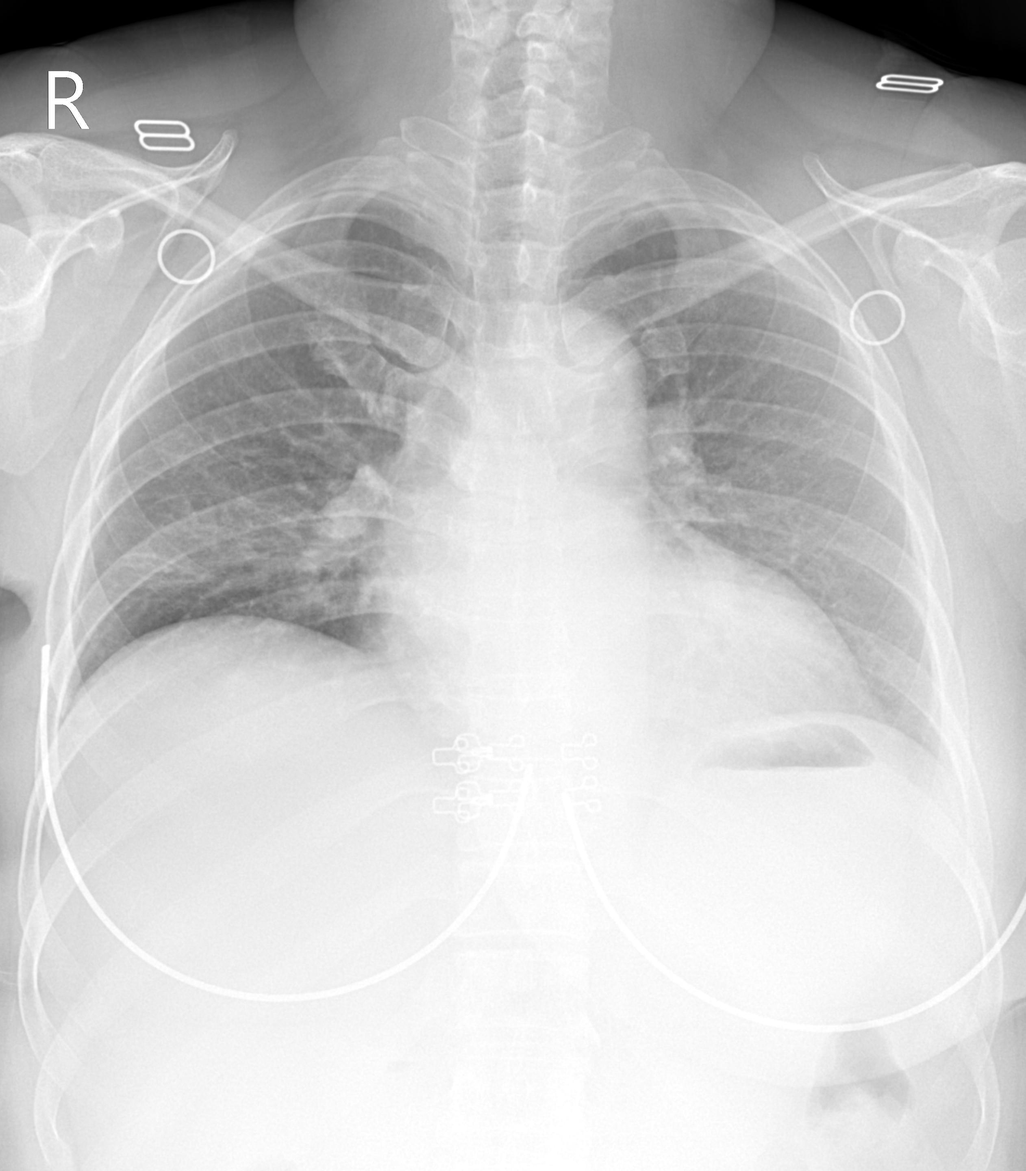Aortic enlargement: (515, 306, 646, 441)
Cardiomegaly: (371, 560, 880, 737)
Pulmonary fibrosis: (111, 553, 213, 592)
